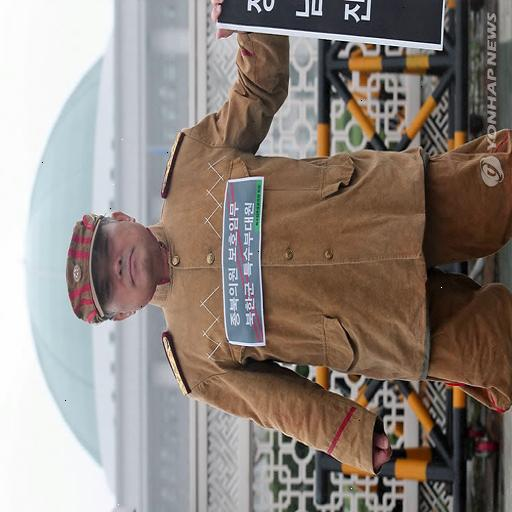north army: (58, 77, 512, 456)
